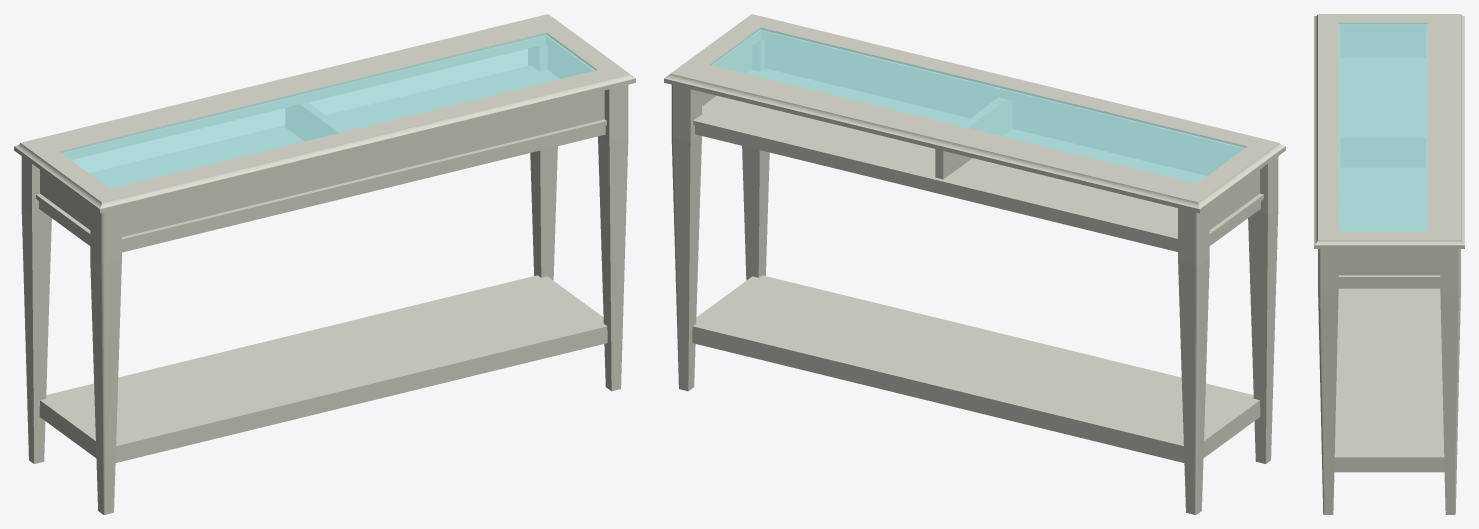
3 renders of one model, left to right at view 1: azimuth 30°, elevation 25°; view 2: azimuth 150°, elevation 25°; view 3: azimuth 270°, elevation 25°, orthographic. The views are drawn at different scales.
Parts seen in each view (by area): view 1: Mesh6 Bottom_plate1 Model, Mesh8 Model, Mesh1 Upper_Plae1 Model, Mesh7 GLASS1 Model, Mesh5 foot4 Model, Mesh2 foot1 Model, Mesh4 foot3 Model, Mesh3 foot2 Model; view 2: Mesh6 Bottom_plate1 Model, Mesh8 Model, Mesh1 Upper_Plae1 Model, Mesh7 GLASS1 Model, Mesh4 foot3 Model, Mesh3 foot2 Model, Mesh5 foot4 Model, Mesh2 foot1 Model; view 3: Mesh8 Model, Mesh6 Bottom_plate1 Model, Mesh7 GLASS1 Model, Mesh1 Upper_Plae1 Model, Mesh2 foot1 Model, Mesh3 foot2 Model.
Part boxes in pixels (box(x1,y1,x2,y2)): Mesh6 Bottom_plate1 Model: box(39, 275, 607, 462); Mesh8 Model: box(36, 47, 606, 252); Mesh1 Upper_Plae1 Model: box(14, 14, 635, 213); Mesh7 GLASS1 Model: box(59, 32, 597, 188); Mesh5 foot4 Model: box(90, 206, 121, 514); Mesh2 foot1 Model: box(598, 84, 628, 391); Mesh4 foot3 Model: box(21, 156, 51, 463); Mesh3 foot2 Model: box(528, 45, 557, 280); Mesh6 Bottom_plate1 Model: box(692, 275, 1260, 462); Mesh8 Model: box(693, 41, 1263, 251); Mesh1 Upper_Plae1 Model: box(664, 14, 1285, 213); Mesh7 GLASS1 Model: box(709, 27, 1247, 183); Mesh4 foot3 Model: box(1178, 206, 1209, 514); Mesh3 foot2 Model: box(671, 84, 701, 391); Mesh5 foot4 Model: box(1248, 156, 1278, 463); Mesh2 foot1 Model: box(742, 40, 769, 280); Mesh8 Model: box(1338, 33, 1440, 288); Mesh6 Bottom_plate1 Model: box(1334, 288, 1444, 472); Mesh7 GLASS1 Model: box(1338, 22, 1428, 231); Mesh1 Upper_Plae1 Model: box(1314, 14, 1464, 248); Mesh2 foot1 Model: box(1318, 249, 1338, 514); Mesh3 foot2 Model: box(1440, 249, 1460, 514).
Size of the model in its own units: 0.8517 by 0.4803 by 0.2369.
